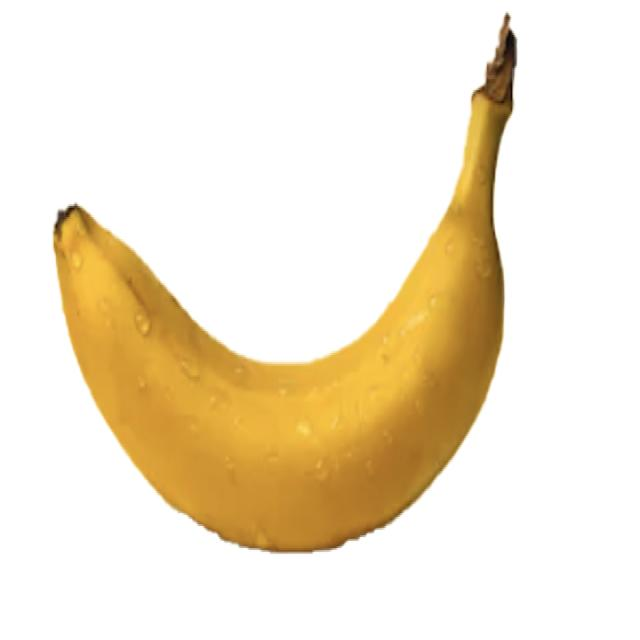fresh-banana: (51, 11, 518, 554)
